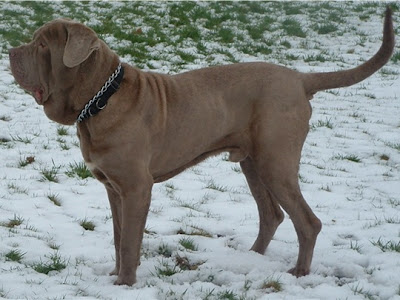neapolitan_mastiff: (6, 6, 395, 286)
